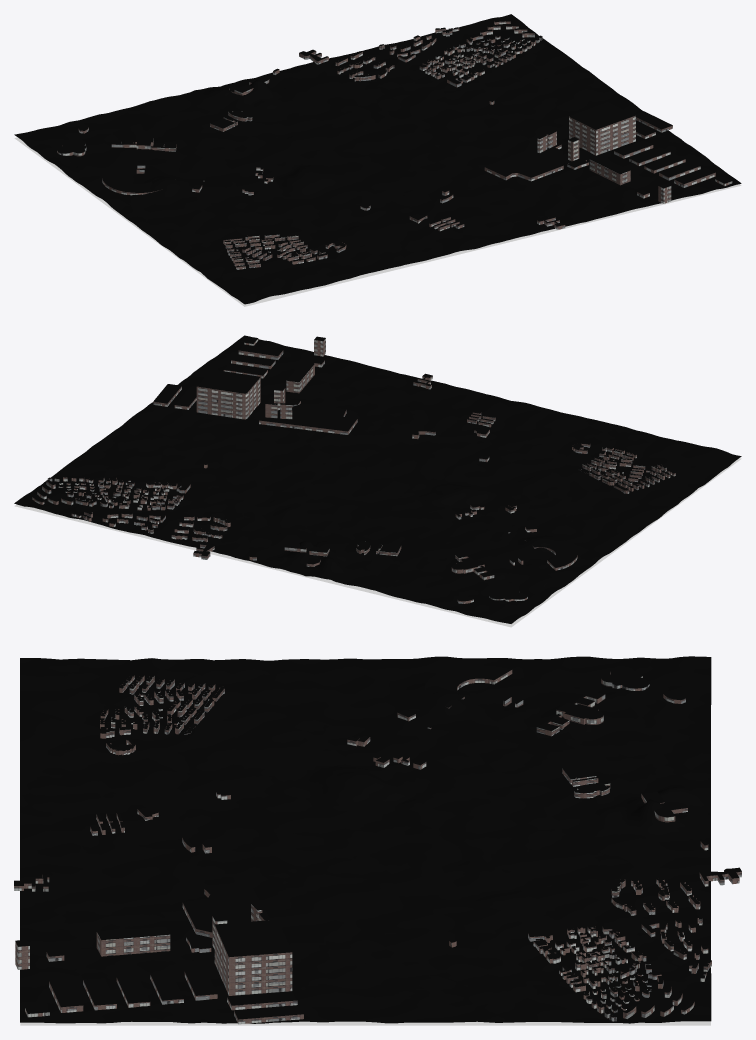
Rendered from century.dae.
The picture shows the model from 3 angles, top to bottom: view 1: azimuth 30°, elevation 25°; view 2: azimuth 150°, elevation 25°; view 3: azimuth 270°, elevation 25°; orthographic projection. The views are drawn at different scales.
Visible parts, largest first — view 1: Terrain, map_21.osm_buildings, map_21.osm_buildings.001, Terrain_envelope; view 2: Terrain, map_21.osm_buildings, map_21.osm_buildings.001, Terrain_envelope; view 3: Terrain, map_21.osm_buildings.001, map_21.osm_buildings, Terrain_envelope.
Part boxes in pixels (x1=…): Terrain: x1=14, y1=14, x2=741, y2=304; map_21.osm_buildings: x1=57, y1=21, x2=732, y2=269; map_21.osm_buildings.001: x1=57, y1=20, x2=731, y2=266; Terrain_envelope: x1=14, y1=137, x2=741, y2=306; Terrain: x1=14, y1=335, x2=741, y2=623; map_21.osm_buildings: x1=32, y1=338, x2=675, y2=603; map_21.osm_buildings.001: x1=32, y1=336, x2=675, y2=601; Terrain_envelope: x1=14, y1=458, x2=741, y2=627; Terrain: x1=20, y1=656, x2=711, y2=1023; map_21.osm_buildings.001: x1=14, y1=665, x2=741, y2=1019; map_21.osm_buildings: x1=14, y1=670, x2=741, y2=1024; Terrain_envelope: x1=20, y1=1021, x2=710, y2=1025.
Size of the model in its own units: 2639 by 2215 by 141.
